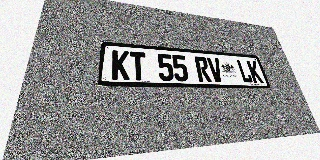5: (157, 53, 175, 81), (172, 55, 189, 82)
K: (111, 50, 129, 80), (246, 60, 264, 83)
L: (236, 59, 254, 83)
R: (194, 56, 212, 82)
T: (130, 51, 147, 81)
V: (207, 57, 224, 82)
